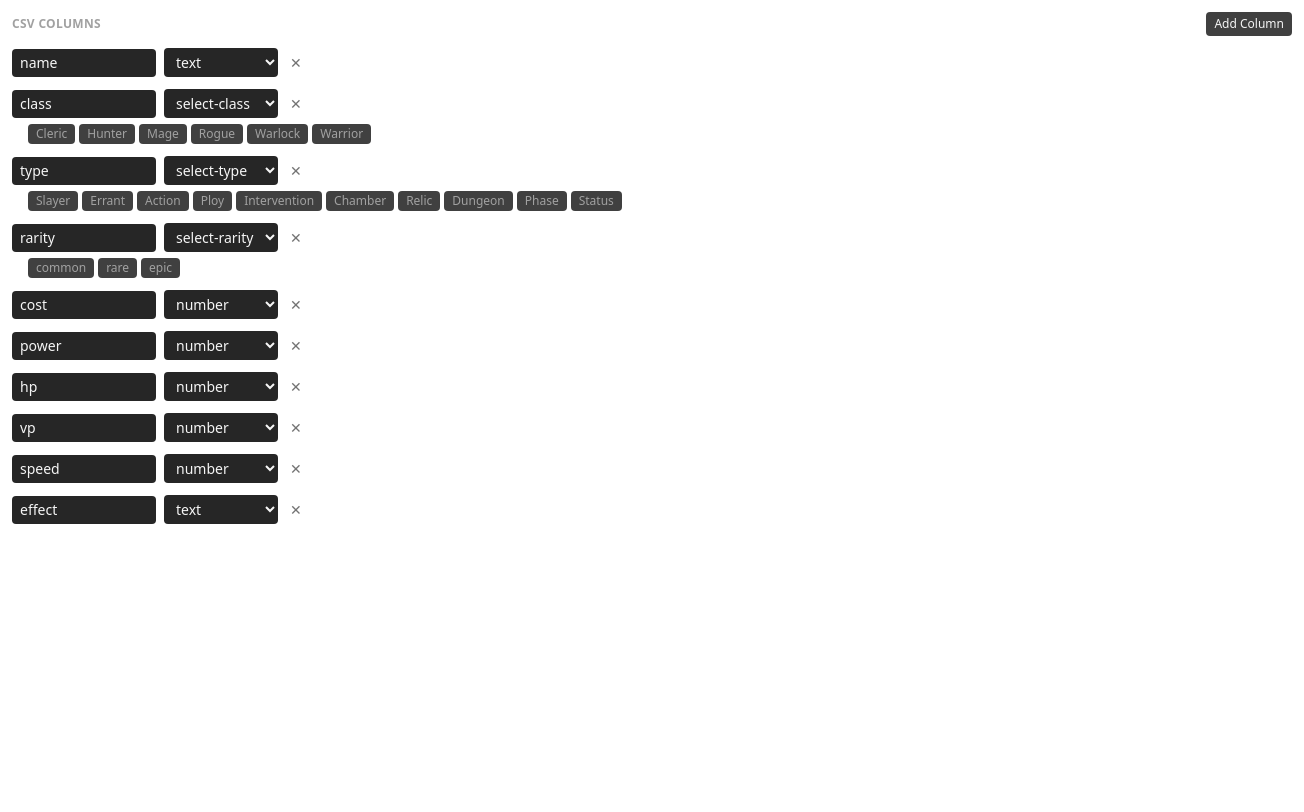
Test case: CsvColumnEditor › changing type from "select" to "text" hides the choices editor
The image size is (1304, 812).
# switch first column to 'select' first, then back to 'text'
Select "select" in the 1st dropdown named "column type": {"x": 221, "y": 62} [164,48,278,77]
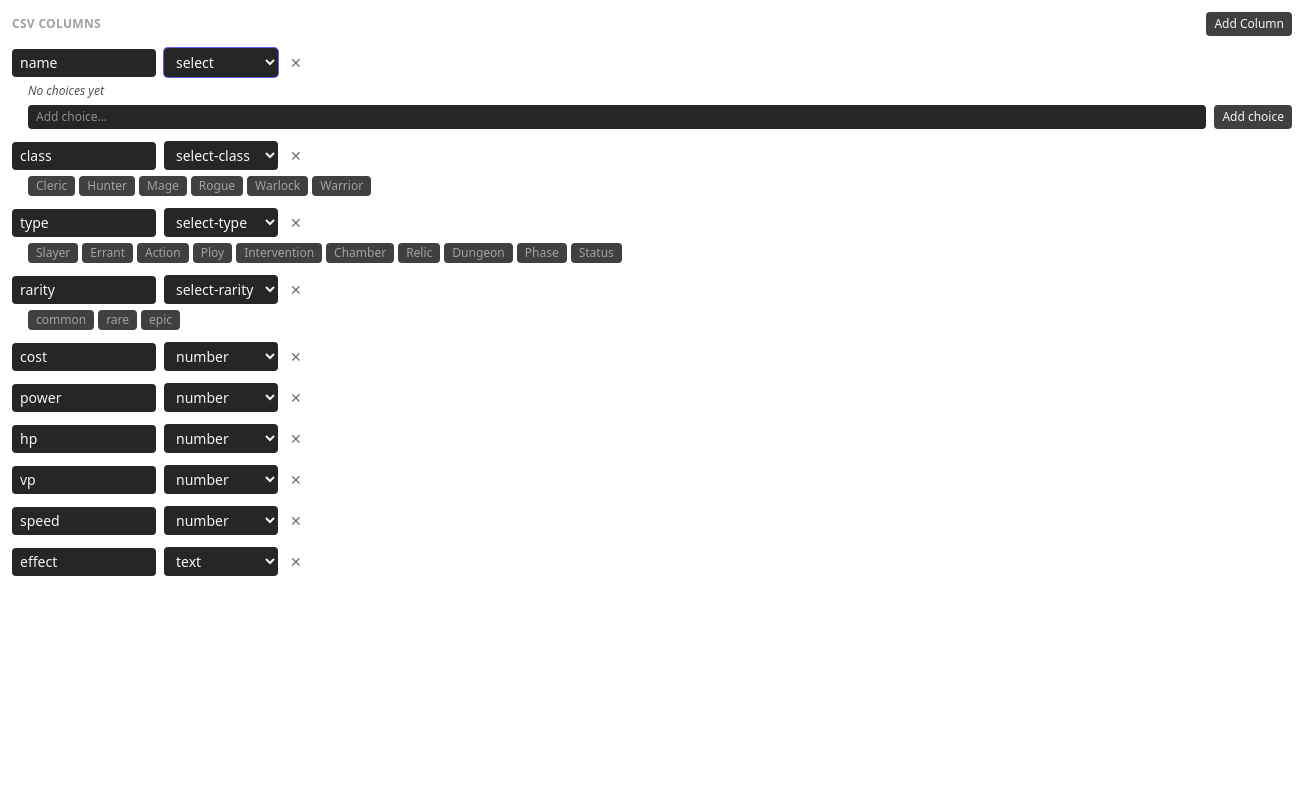
Check: the number of fields with placeholder "Add choice…" is 1, box [28,105,1206,129]
Select "text" in the 1st dropdown named "column type": {"x": 221, "y": 62} [164,48,278,77]
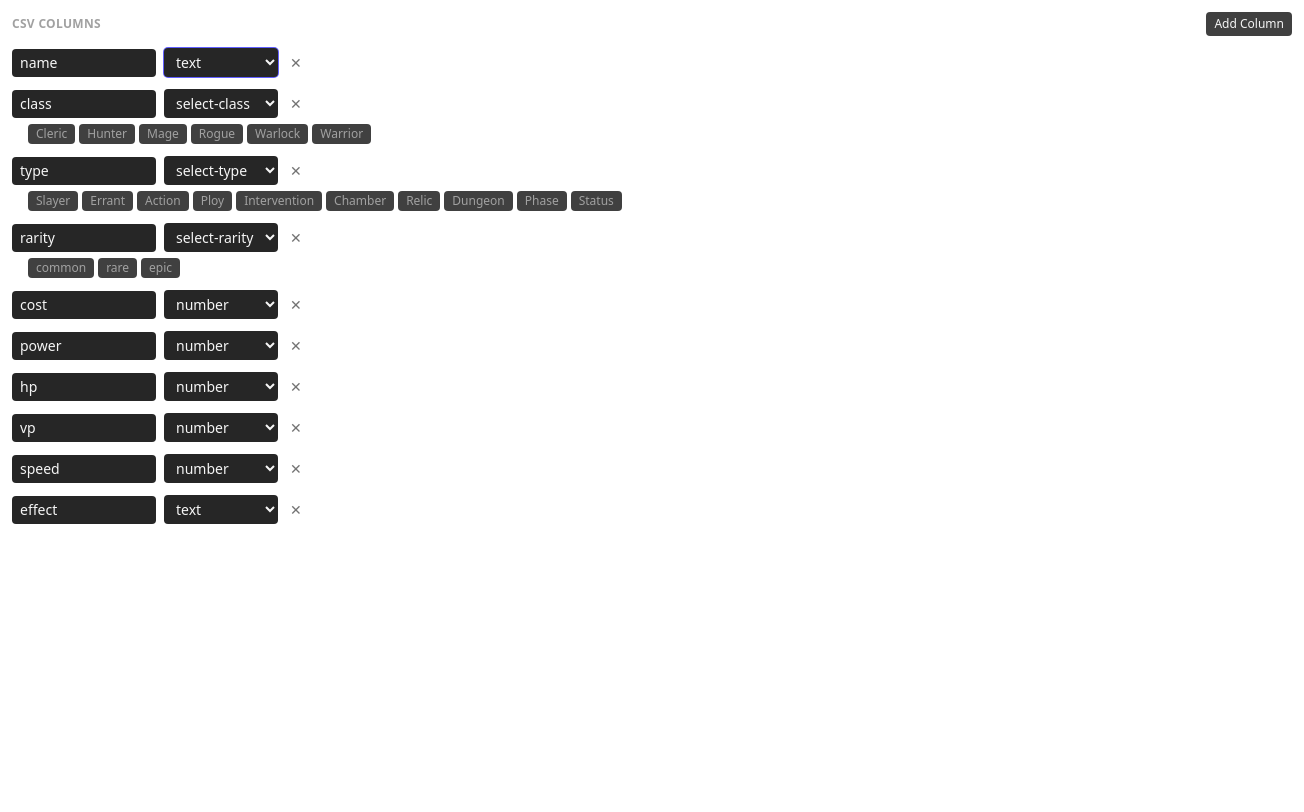
Check: no buttons with placeholder "Add choice" are shown
